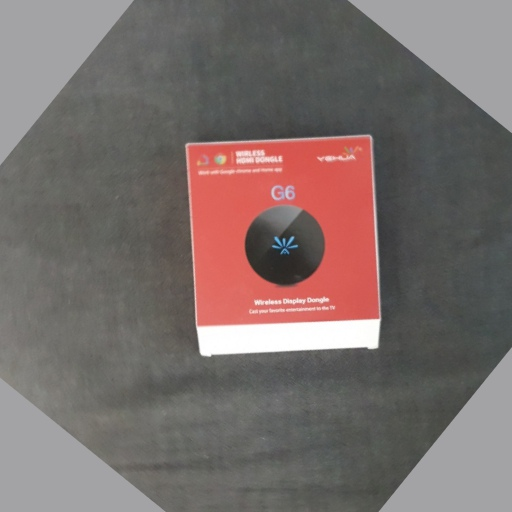Paper_0: (177, 127, 394, 364)
